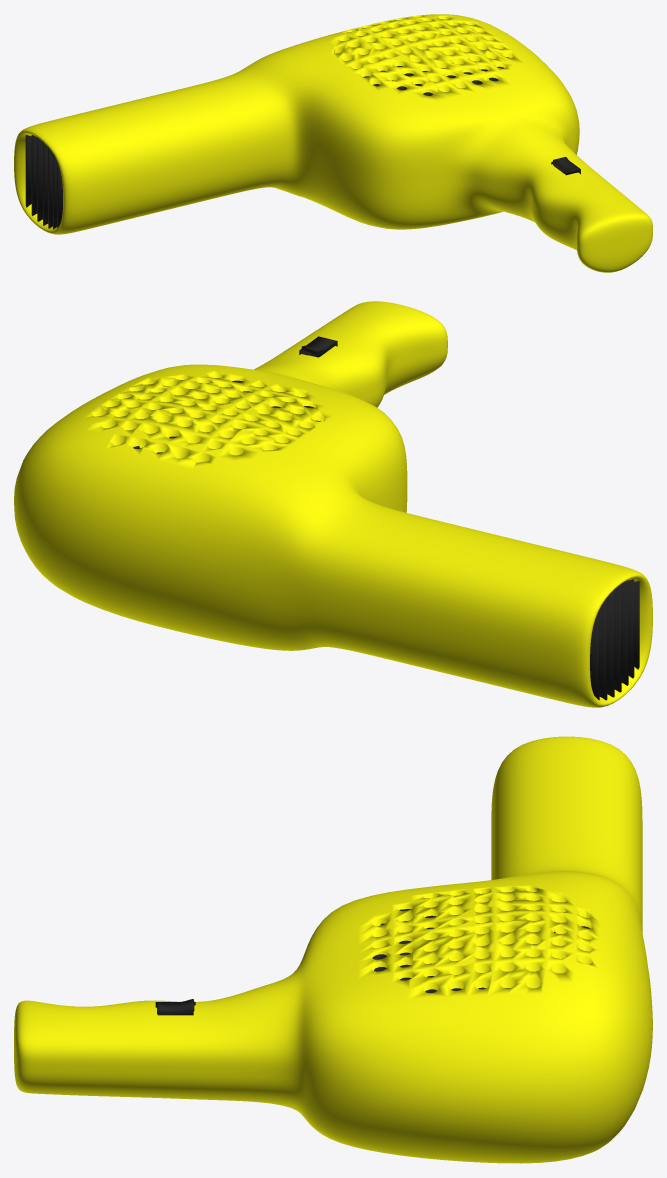
File: Fan.fbx
The picture shows the model from 3 angles, top to bottom: view 1: azimuth 30°, elevation 25°; view 2: azimuth 150°, elevation 25°; view 3: azimuth 270°, elevation 25°; orthographic projection. The views are drawn at different scales.
Visible parts, largest first — view 1: Cube.002; view 2: Cube.002; view 3: Cube.002.
Part boxes in pixels (bbox=[...]): Cube.002: bbox=[14, 14, 652, 272]; Cube.002: bbox=[14, 301, 652, 707]; Cube.002: bbox=[14, 736, 652, 1163].
Size of the model in its own units: 4.47 by 1.33 by 3.85.
